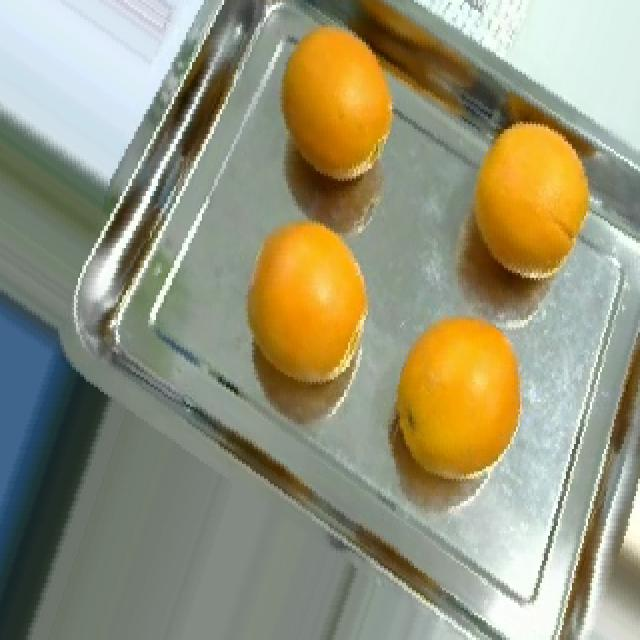Fruit: (252, 0, 430, 221), (372, 290, 546, 511), (224, 196, 386, 412)
